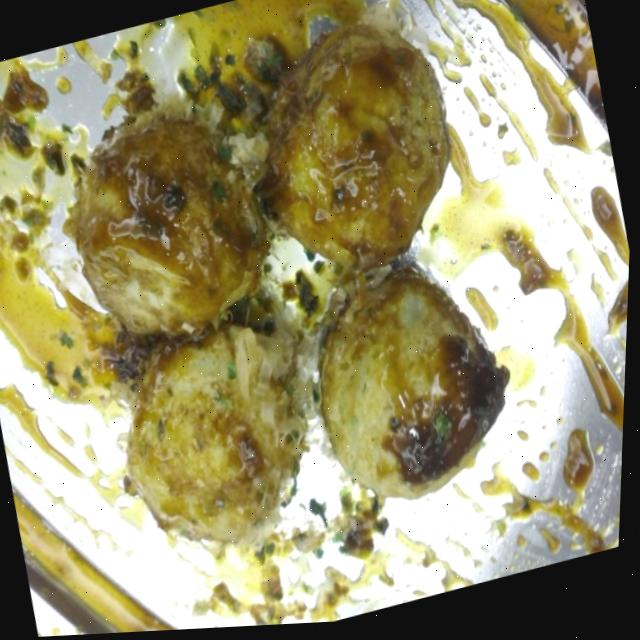炸货点心: (33, 0, 545, 590)
